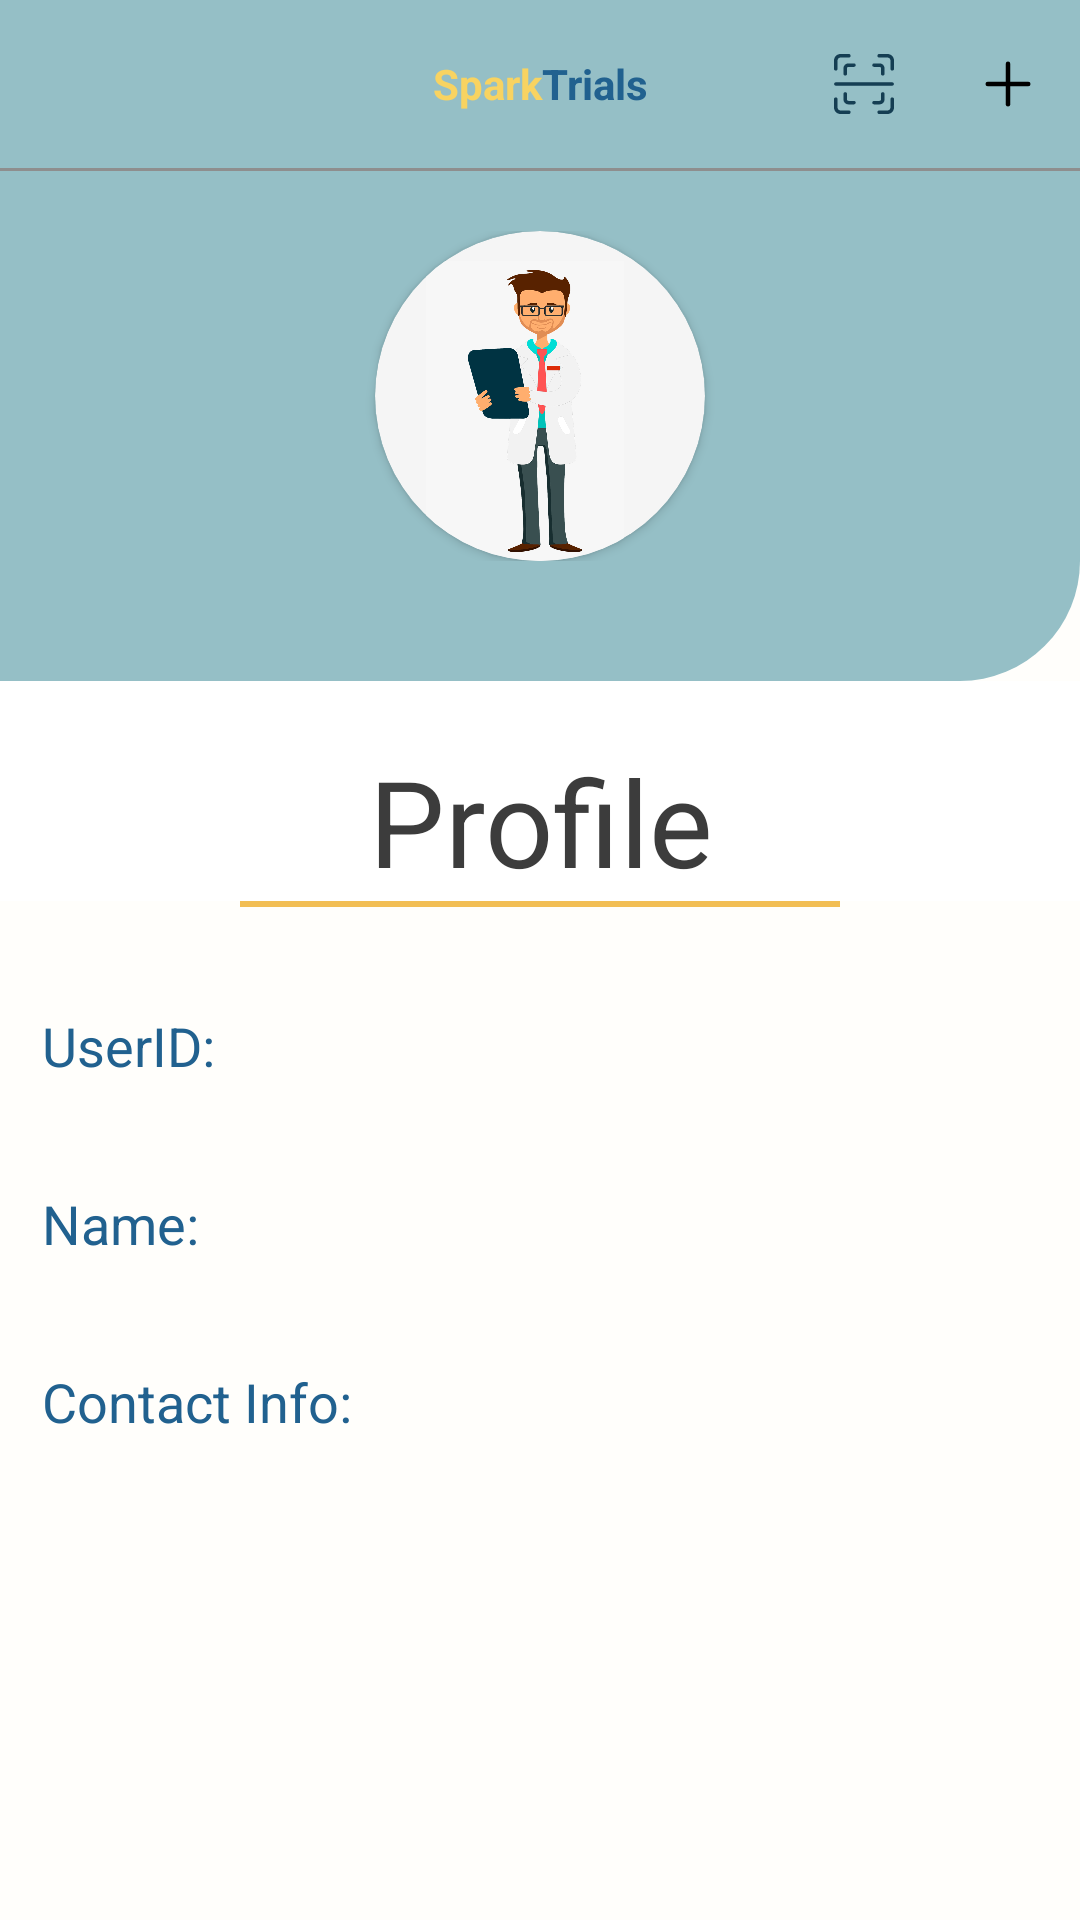

Icons on this 1080 × 1920 Android screen, each with its box as detection(x1, y1, x2, y2):
avatarfree: detection(375, 261, 675, 561)
